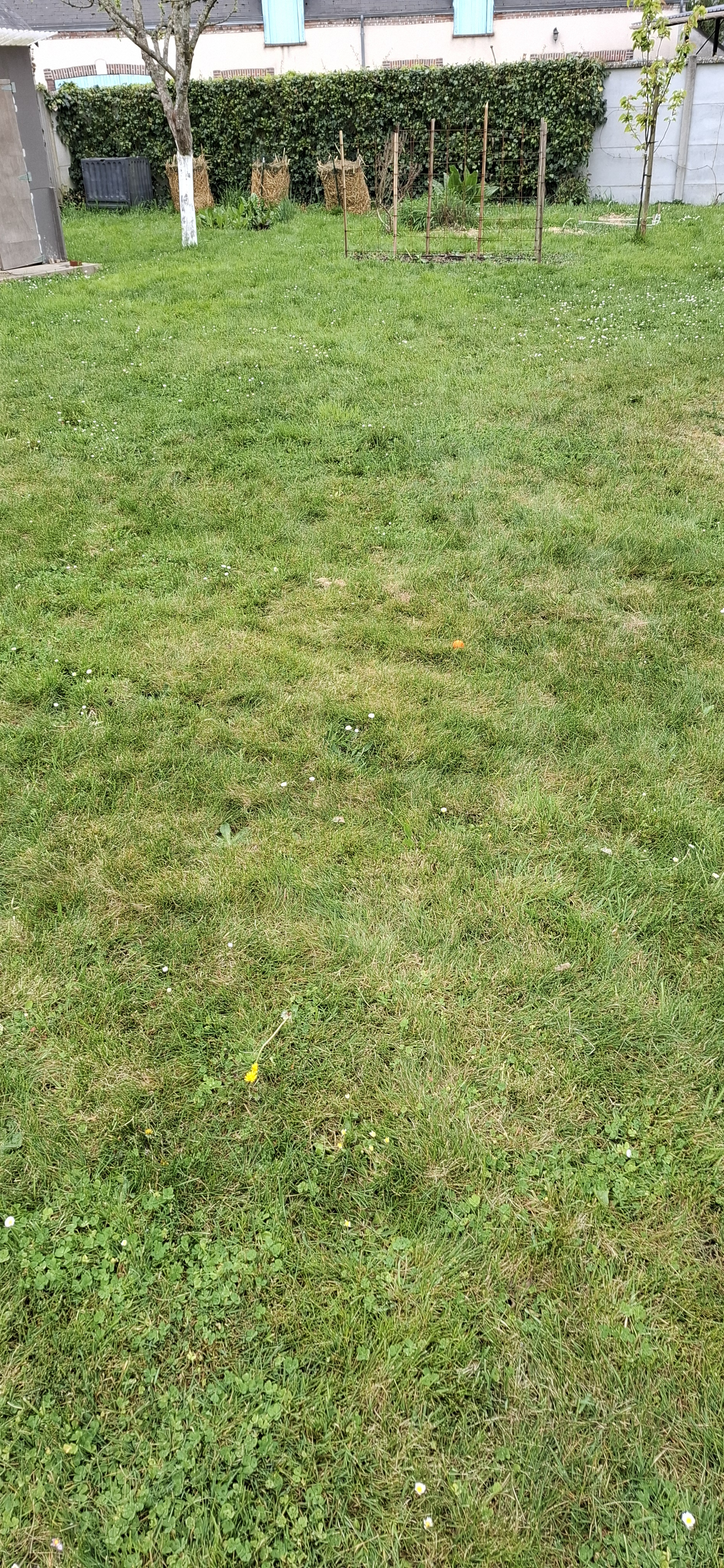ball: (295, 563, 301, 588)
